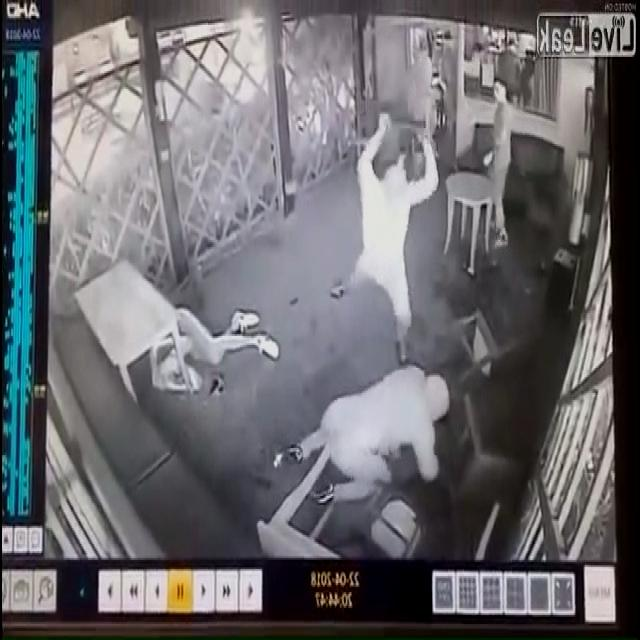fight: (274, 111, 448, 504)
